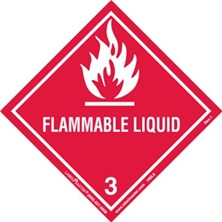FlammableLiquid: (15, 7, 213, 207)
